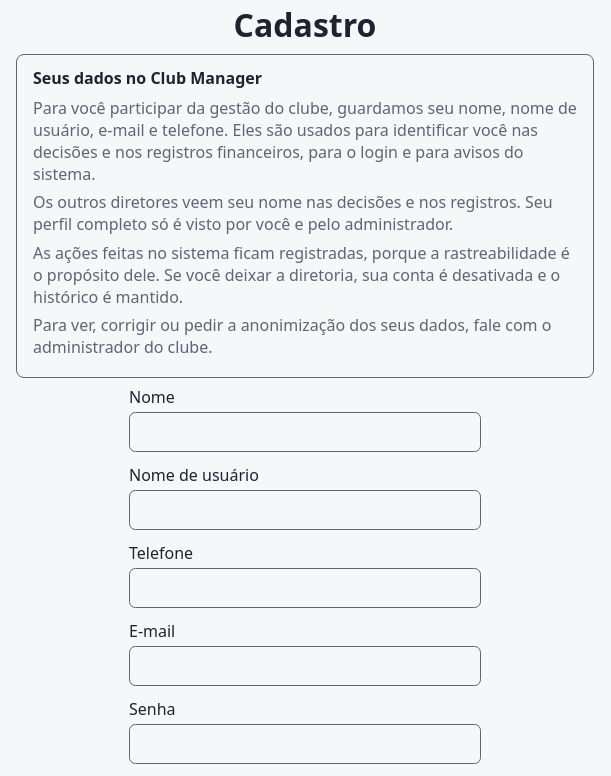
Scenario: cadastro pelo convite › mostra o motivo de cada campo recusado
Type "Caio Convidado" into the field labelled "Nome".
click(305, 432); type("Caio Convidado")  # box [129, 412, 481, 452]
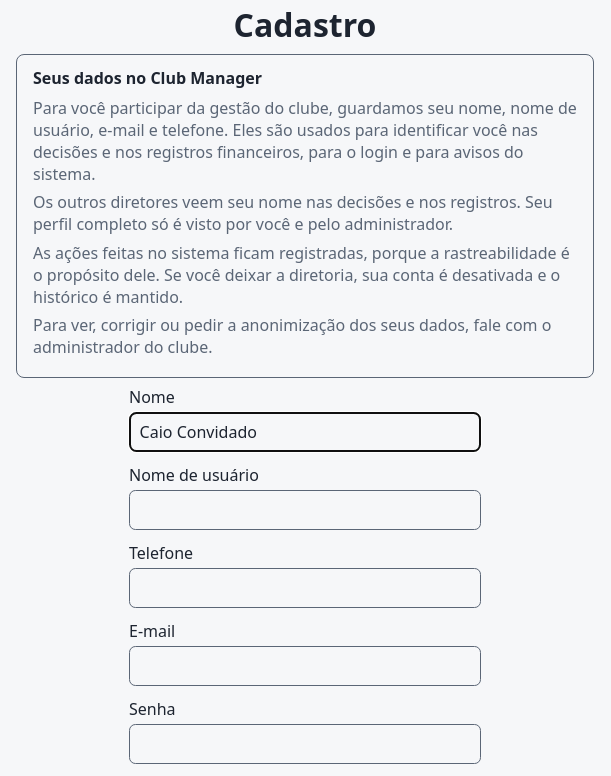
Type "caio" into the field labelled "Nome de usuário".
click(305, 510); type("caio")  # box [129, 490, 481, 530]
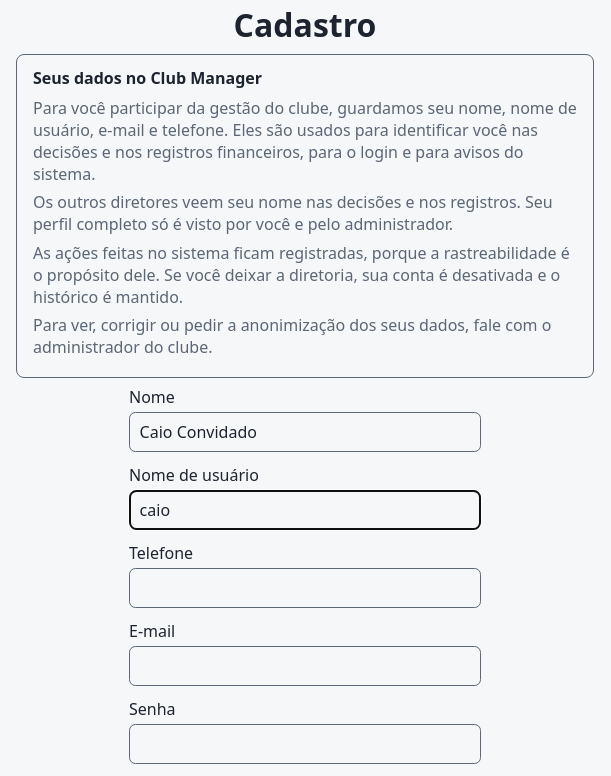
Type "11977776666" into the field labelled "Telefone".
click(305, 588); type("11977776666")  # box [129, 568, 481, 608]
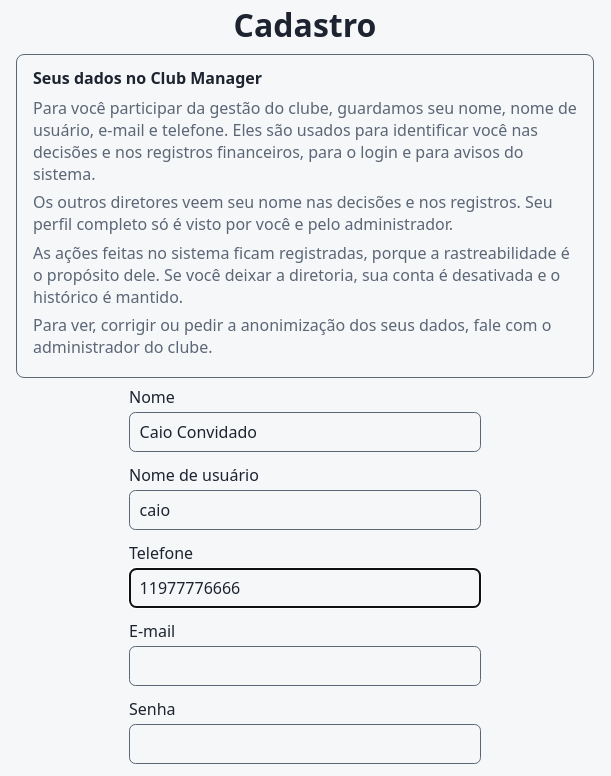
Type "caio@exemplo.com" into the field labelled "E-mail".
click(305, 666); type("caio@exemplo.com")  # box [129, 646, 481, 686]
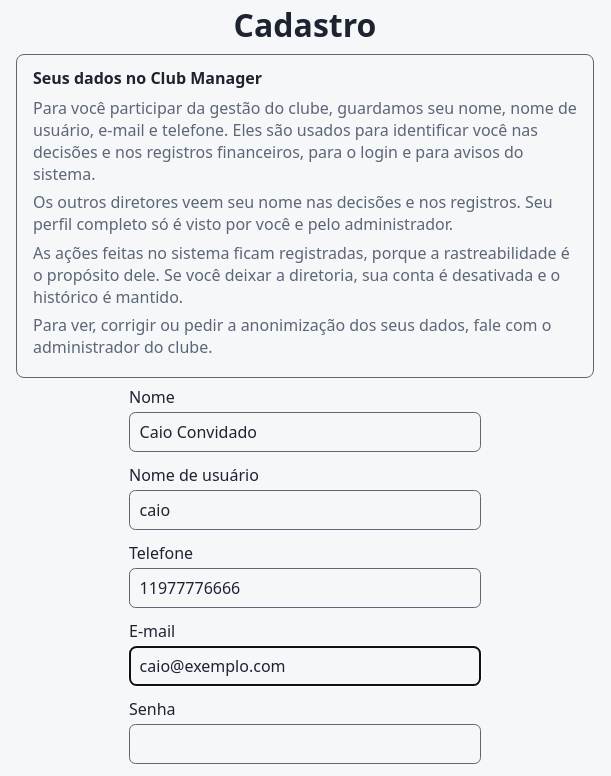
Type "uma-senha-comprida" into the password field labelled "Senha".
click(305, 744); type("uma-senha-comprida")  # box [129, 724, 481, 764]
(page scrolled)
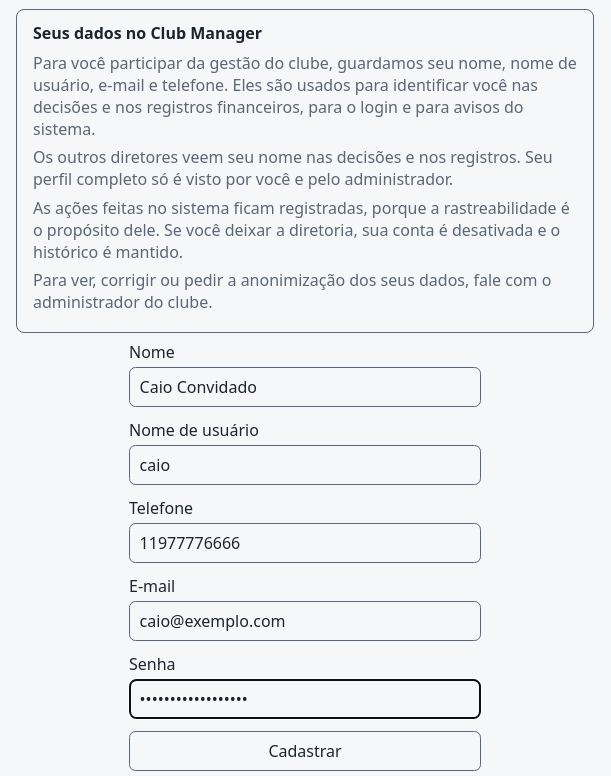
Click the button "Cadastrar".
click(305, 751)  # box [129, 731, 481, 771]
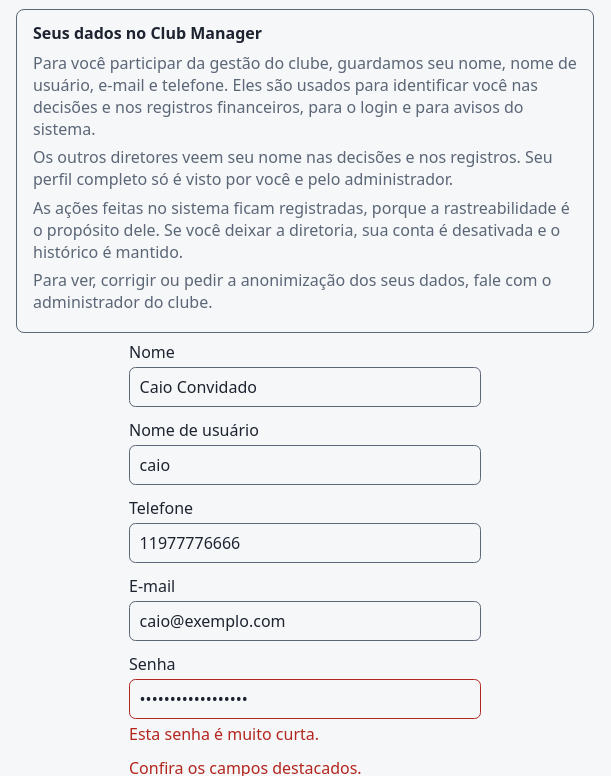
Now the text "Esta senha é muito curta." is shown, box [129, 723, 319, 745]
